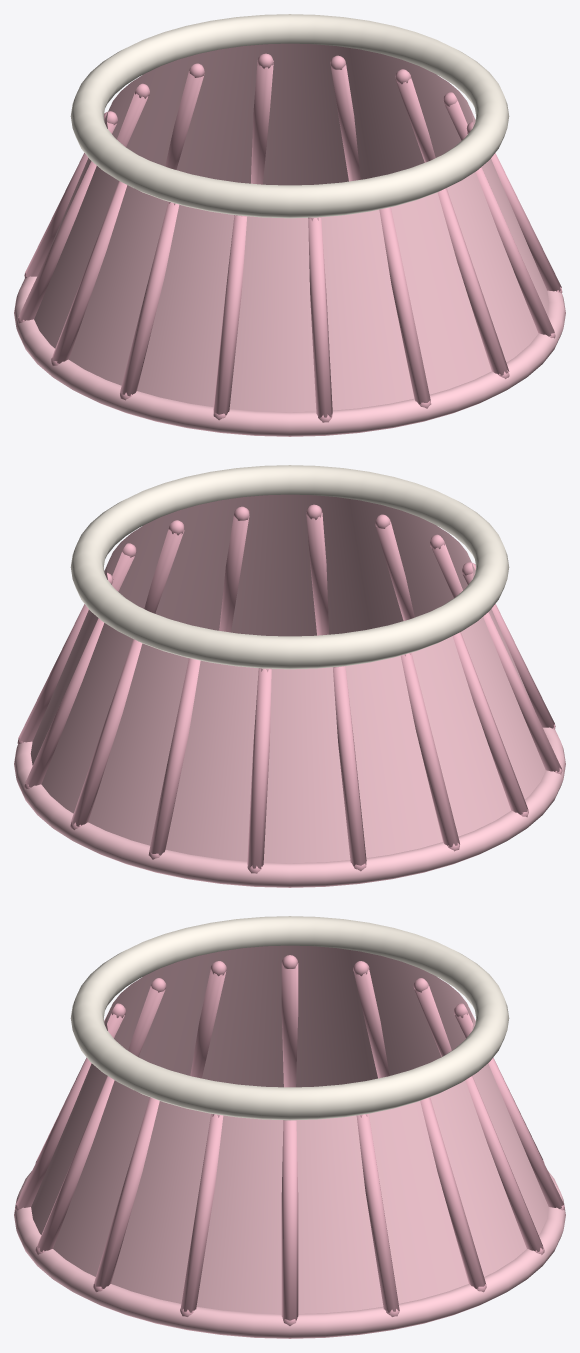
The model's file is skirt.glb.
3 views of the same model, one above another, from view 1: azimuth 30°, elevation 25°; view 2: azimuth 150°, elevation 25°; view 3: azimuth 270°, elevation 25° (orthographic).
Visible parts, largest first — view 1: Body; view 2: Body; view 3: Body.
Part boxes in pixels (bbox=[...]): Body: bbox=[14, 14, 565, 436]; Body: bbox=[14, 465, 565, 887]; Body: bbox=[14, 916, 565, 1338].
Bounding box in the file's own units: 0.534 × 0.2368 × 0.534.
